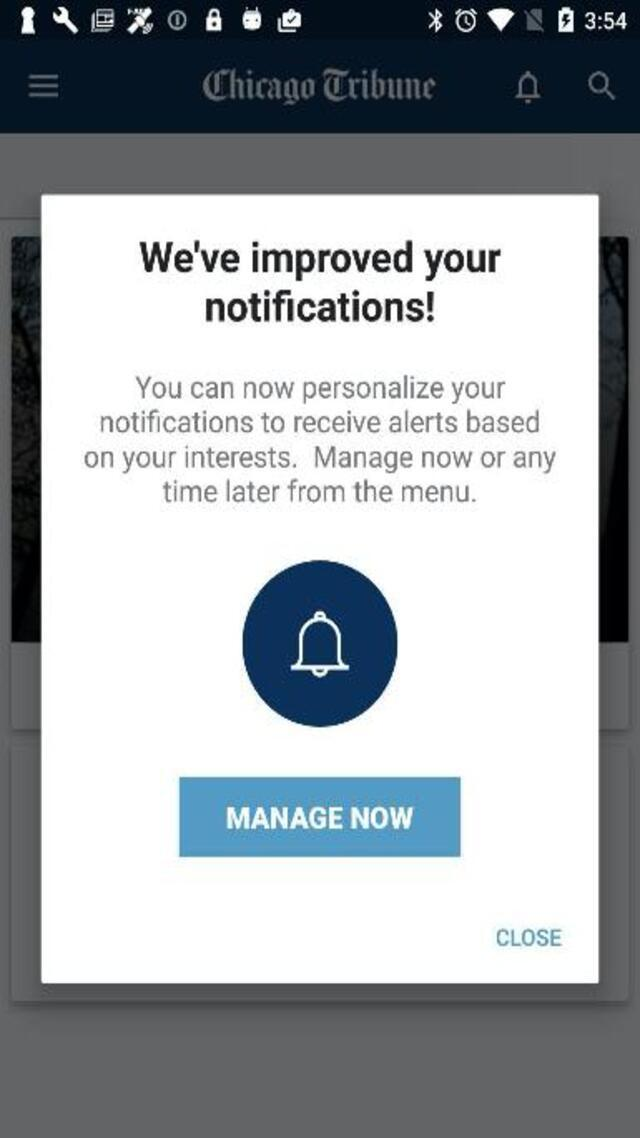Icon: (243, 560, 399, 727), (516, 70, 541, 104), (588, 70, 616, 100), (28, 74, 58, 97)
Image: (202, 68, 436, 106)
Text: (136, 238, 505, 281), (78, 445, 558, 473), (93, 410, 545, 438), (126, 375, 508, 404), (157, 477, 480, 510), (200, 287, 440, 327), (224, 803, 418, 833), (496, 928, 561, 946)
TextButton: (178, 776, 460, 856)
